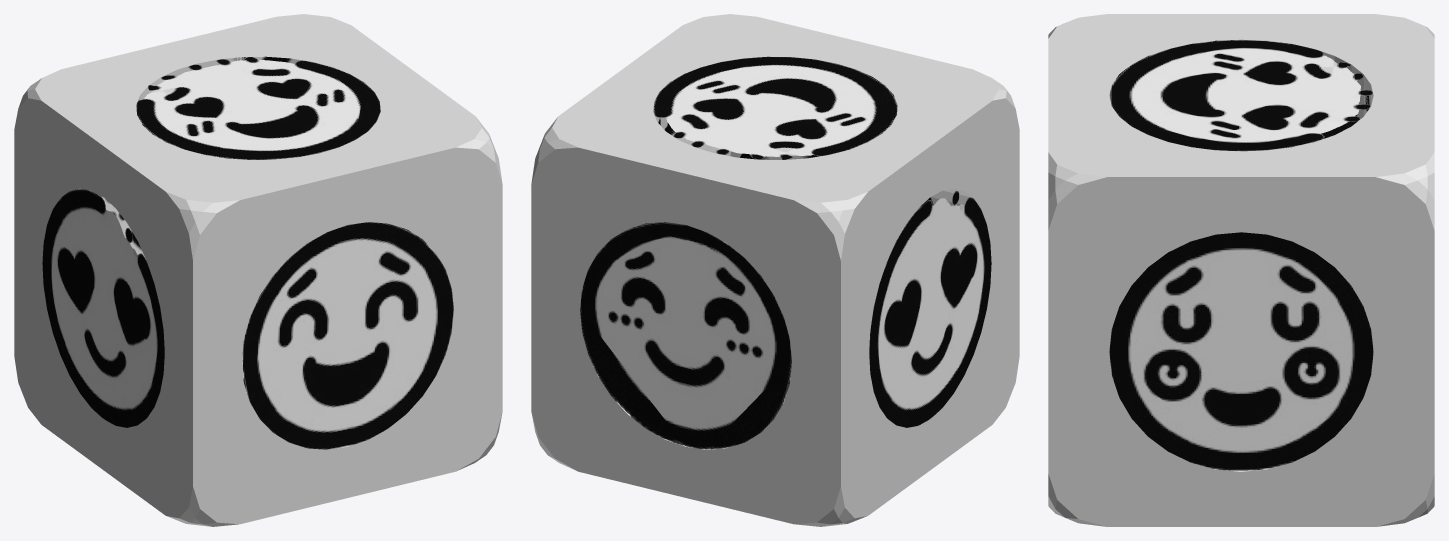
The model's file is Dice.fbx.
3 views of the same model, side by side, from view 1: azimuth 30°, elevation 25°; view 2: azimuth 150°, elevation 25°; view 3: azimuth 270°, elevation 25° (orthographic). The views are drawn at different scales.
Parts seen in each view (by area): view 1: Cube, Hole; view 2: Cube, Hole; view 3: Cube, Hole.
Part boxes in pixels (x1,y1,x2,y2): Cube: (14, 14, 502, 526); Hole: (42, 56, 453, 449); Cube: (531, 14, 1019, 526); Hole: (580, 56, 991, 449); Cube: (1048, 14, 1434, 526); Hole: (1109, 39, 1373, 471).
Size of the model in its own units: 100 by 100 by 100.
